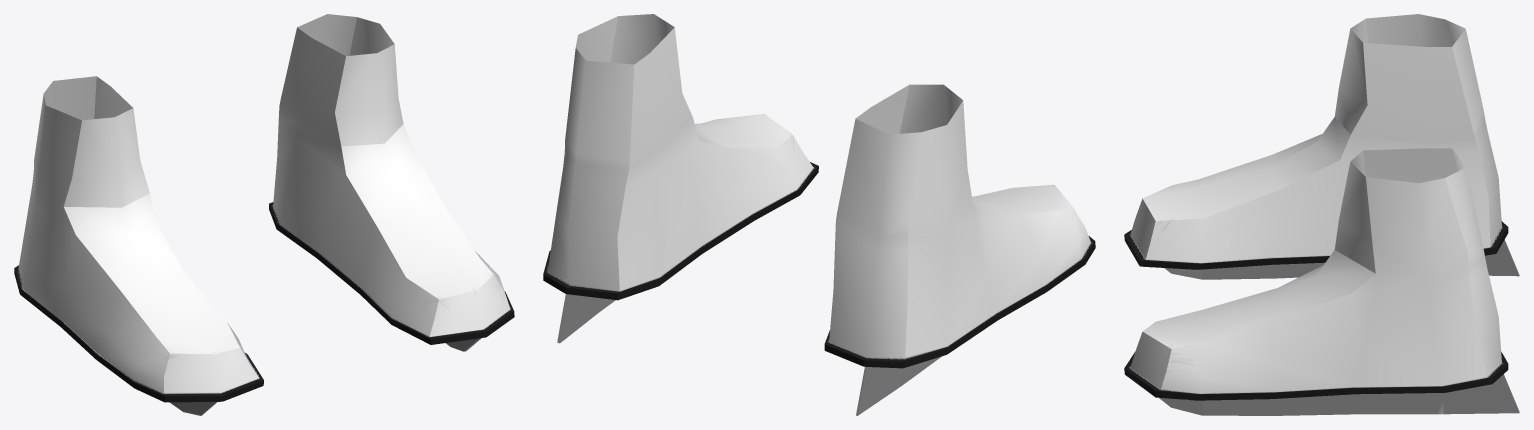
File: iceSkates.fbx
3 views of the same model, side by side, from view 1: azimuth 30°, elevation 25°; view 2: azimuth 150°, elevation 25°; view 3: azimuth 270°, elevation 25° (orthographic). The views are drawn at different scales.
Visible parts, largest first — view 1: iceSKates; view 2: iceSKates; view 3: iceSKates.
Boxes of the visible parts, box(x1,y1,x2,y2) form: iceSKates: box(14, 14, 514, 415); iceSKates: box(543, 14, 1095, 415); iceSKates: box(1124, 14, 1519, 415).
Bounding box in the file's own units: 35.04 × 21.68 × 30.88.
Materials: 1 (1 with a texture image).
